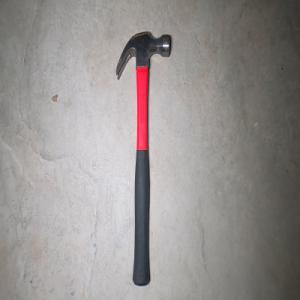Hammer: (114, 30, 170, 287)
